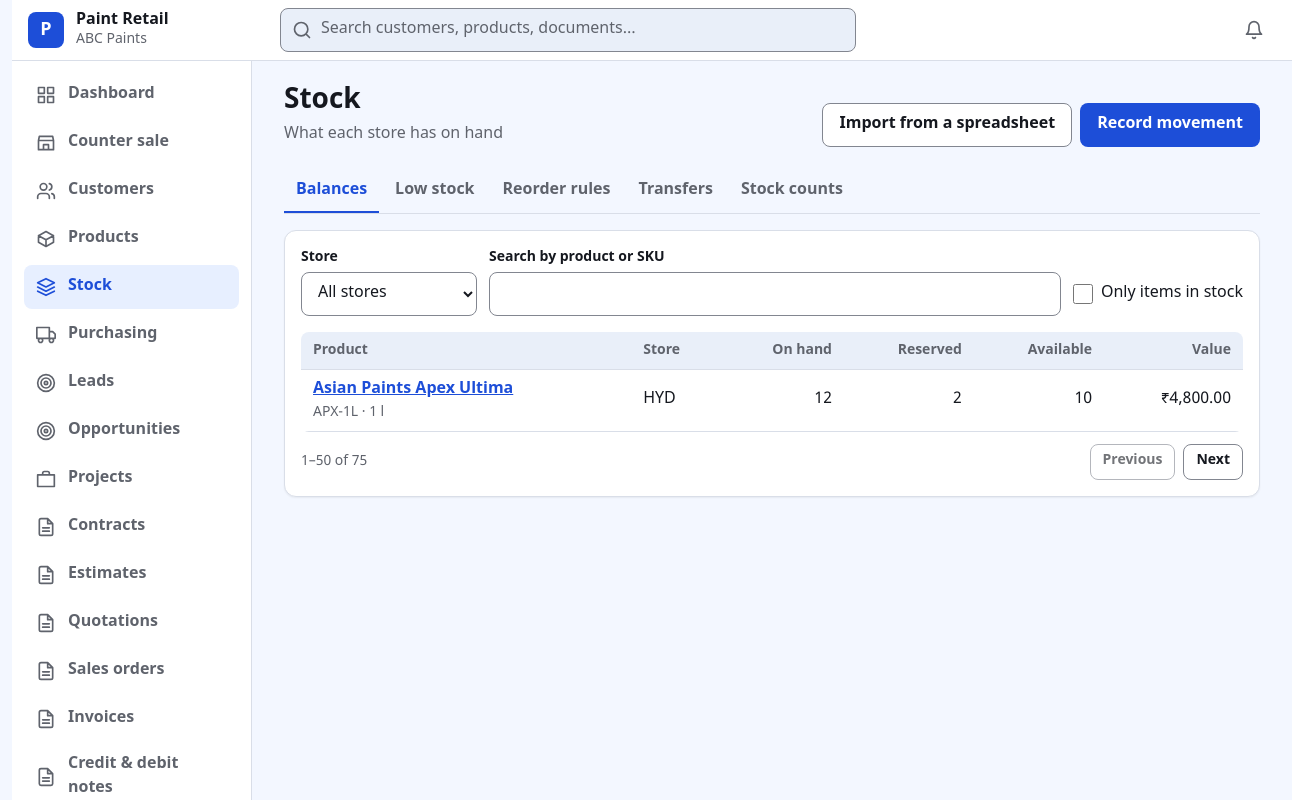
Test: StockPage › pages through long lists
Click the button "Next".
click(1213, 462)  # box [1184,444,1243,480]
(page scrolled)
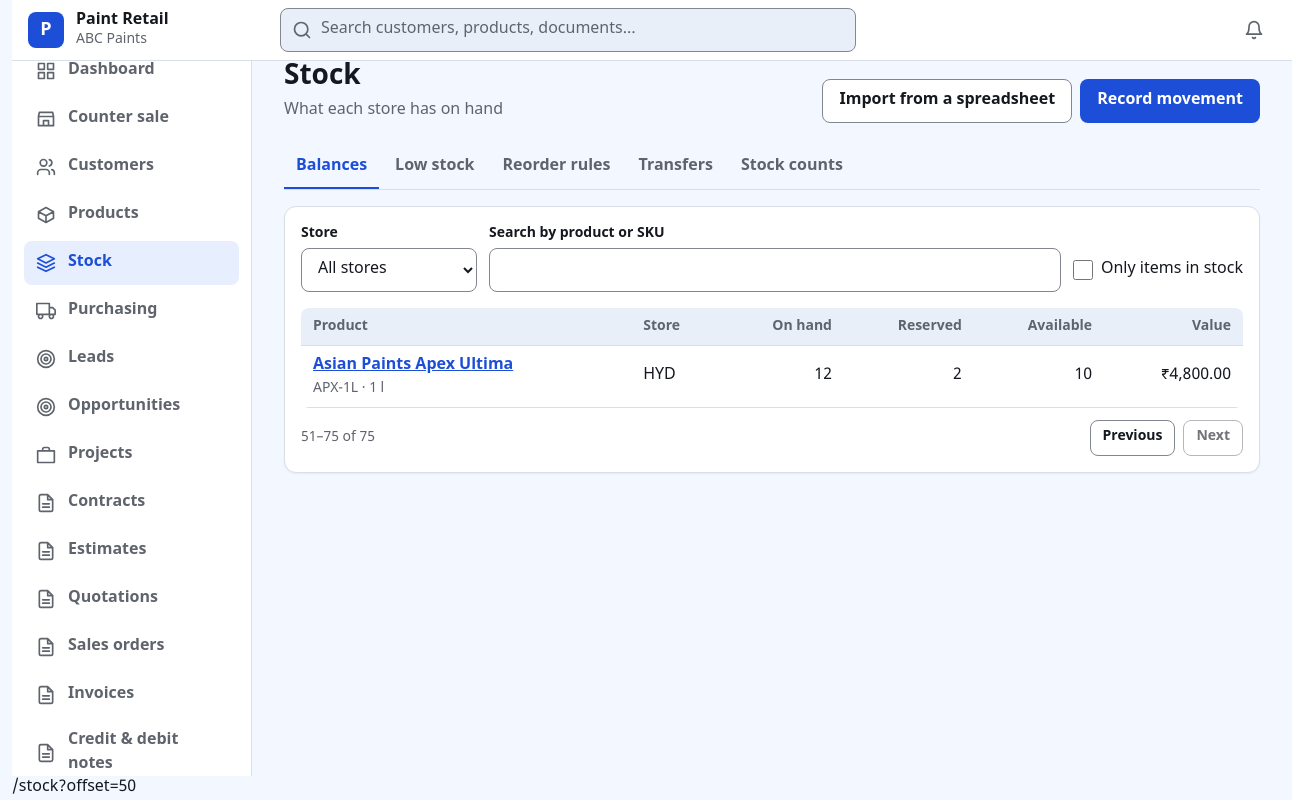
Expected: the text with test id "location" reads "/stock?offset=50", [12,777,136,798]
